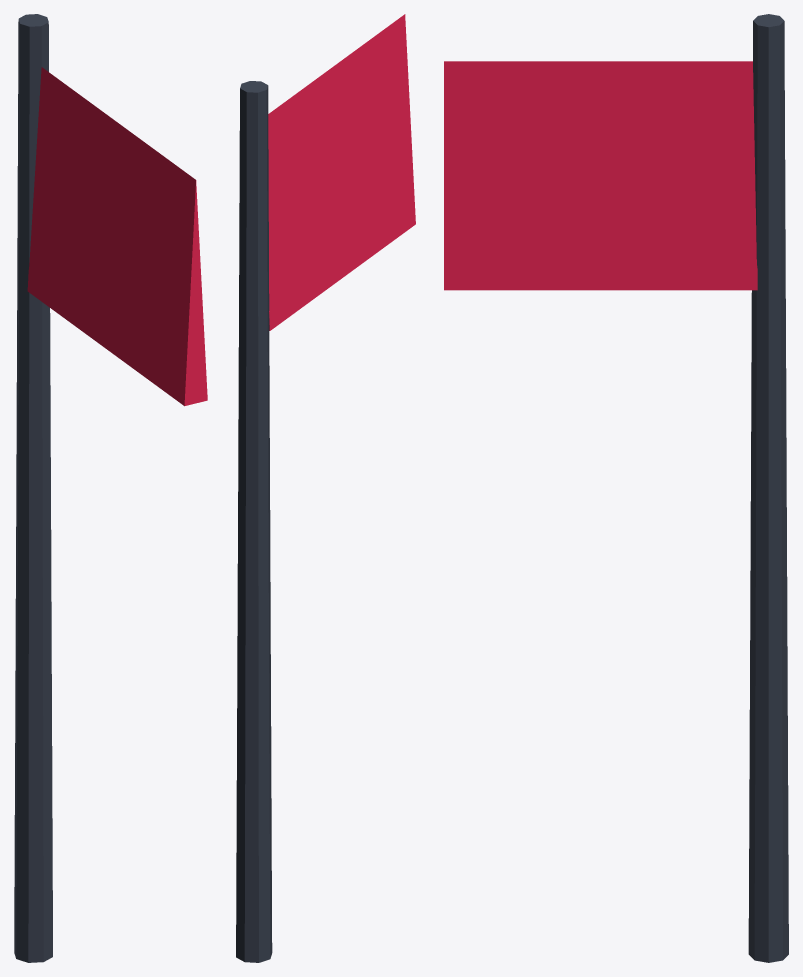
File: banner.obj
3 views of the same model, side by side, from view 1: azimuth 30°, elevation 25°; view 2: azimuth 150°, elevation 25°; view 3: azimuth 270°, elevation 25° (orthographic). The views are drawn at different scales.
Parts seen in each view (by area): view 1: banner_cloth, banner_pole; view 2: banner_cloth, banner_pole; view 3: banner_cloth, banner_pole.
Boxes of the visible parts, bbox=[...] form: banner_cloth: bbox=[27, 67, 207, 406]; banner_pole: bbox=[14, 14, 52, 962]; banner_cloth: bbox=[268, 14, 415, 330]; banner_pole: bbox=[236, 81, 272, 962]; banner_cloth: bbox=[444, 61, 757, 290]; banner_pole: bbox=[748, 14, 788, 962].
Size of the model in its own units: 0.18 by 4.6 by 1.54.
